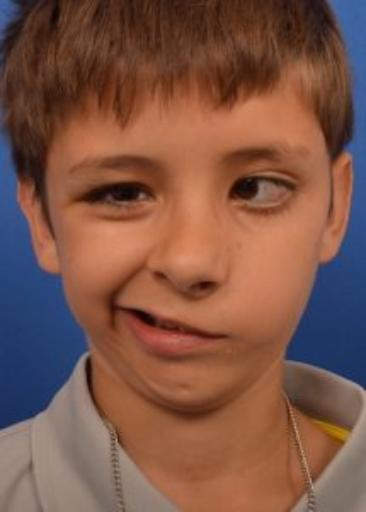left_eye: (225, 174, 301, 213)
left_lip_corner: (218, 328, 233, 346)
right_eye: (77, 179, 161, 211)
right_lip_corner: (112, 298, 131, 318)
